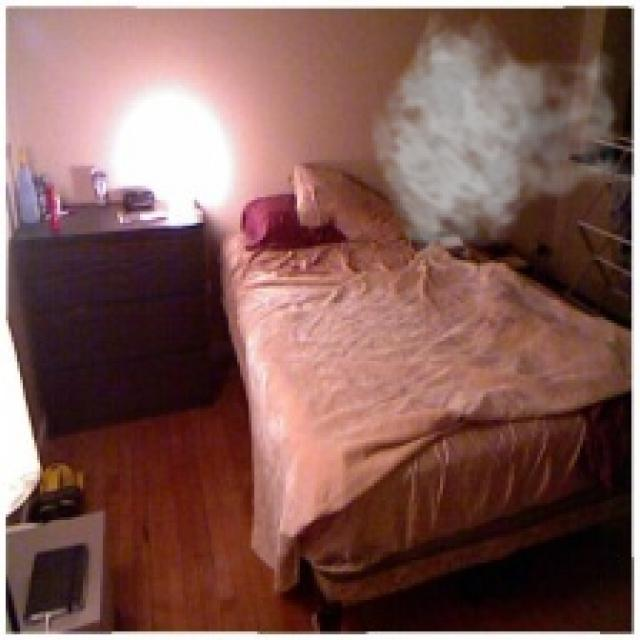smoke: (369, 6, 637, 263)
